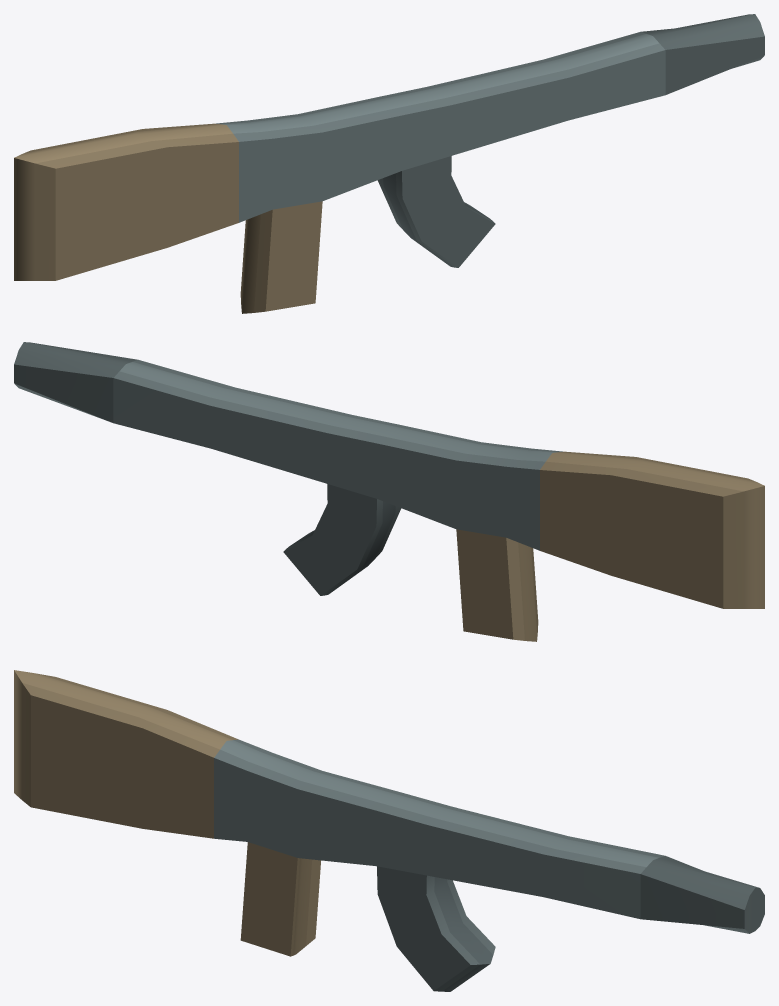
File: Machine Gun.fbx
The picture shows the model from 3 angles, top to bottom: view 1: azimuth 30°, elevation 25°; view 2: azimuth 150°, elevation 25°; view 3: azimuth 330°, elevation 25°; orthographic projection.
Visible parts, largest first — view 1: pasted__pCube1; view 2: pasted__pCube1; view 3: pasted__pCube1.
Part boxes in pixels (<box>): pasted__pCube1: <box>14,14,764,313</box>; pasted__pCube1: <box>14,342,764,641</box>; pasted__pCube1: <box>14,670,764,991</box>.
Size of the model in its own units: 15.86 by 4.41 by 0.9251.
